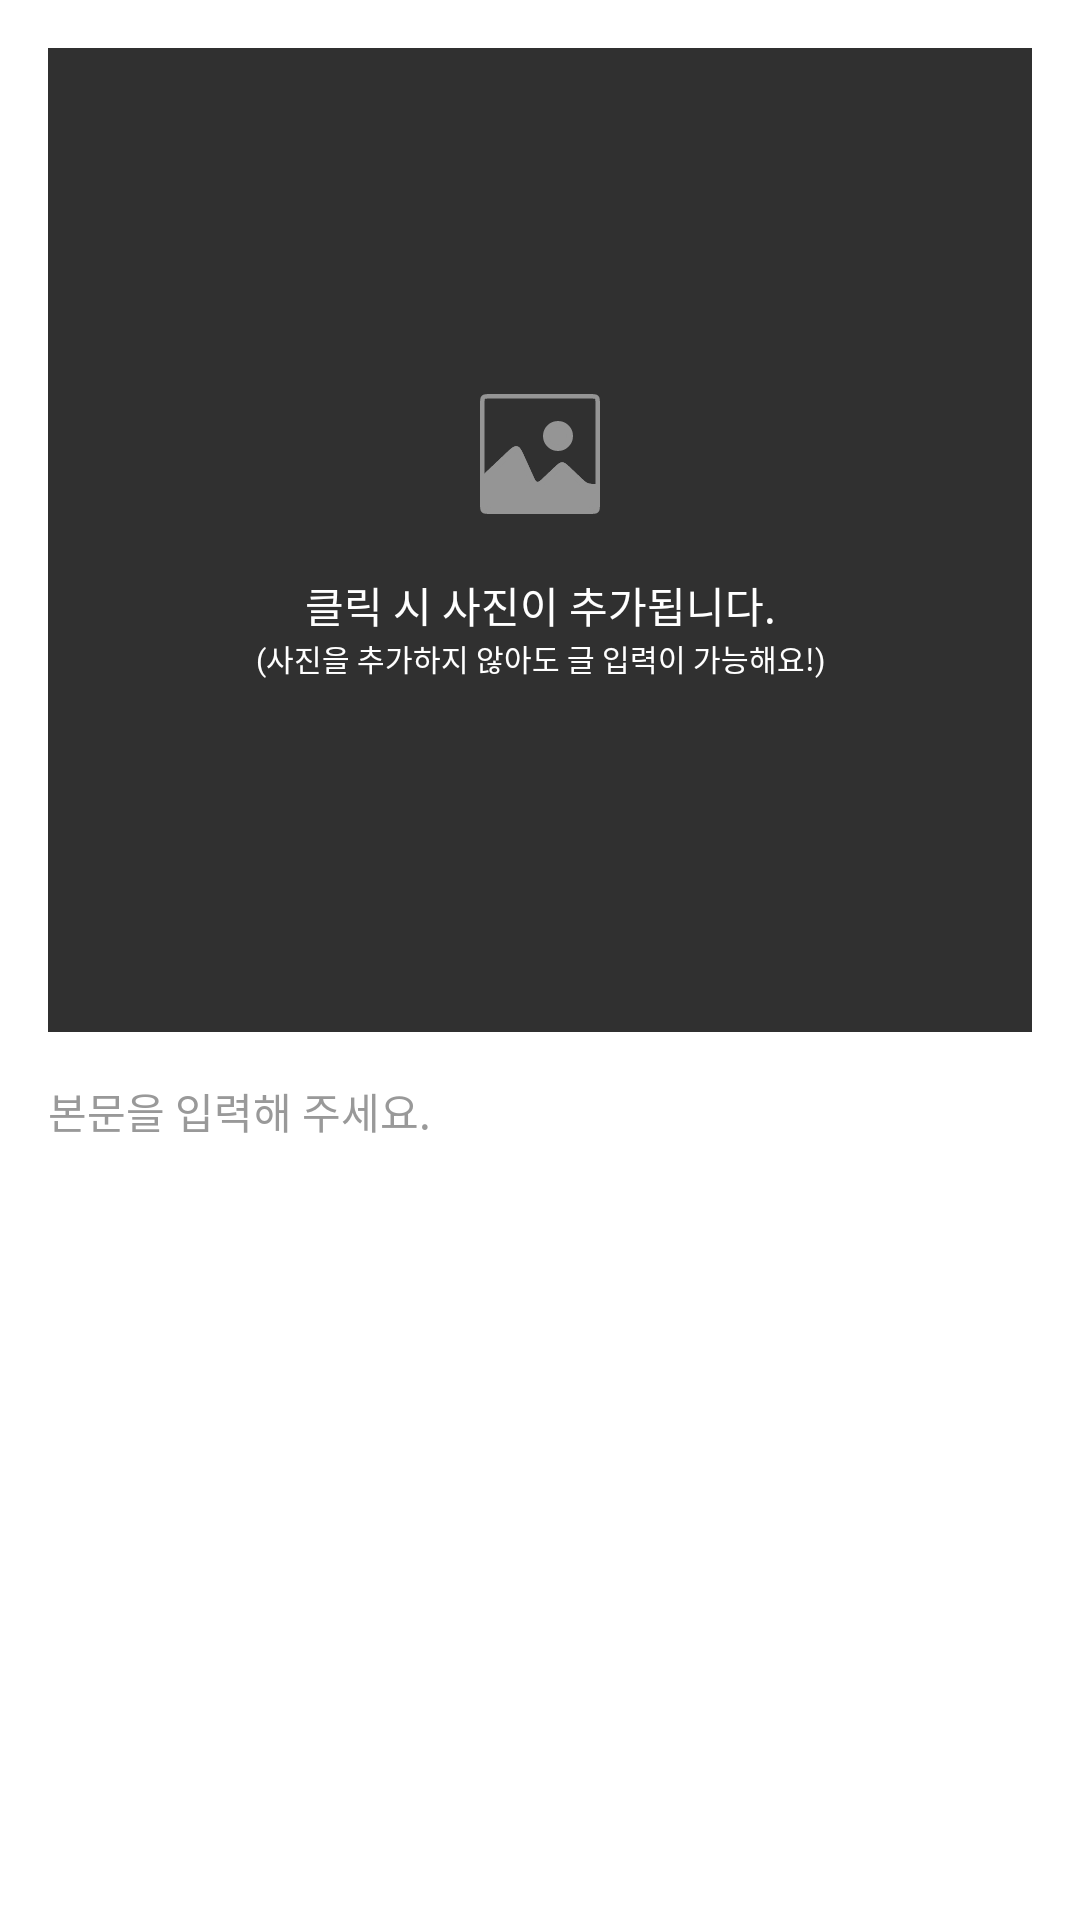

Named icons in this screenshot (1080px×1920px) and their bounding boxes, bbox=(x1, y1, x2, y2):
photo: bbox=(480, 394, 600, 514)
